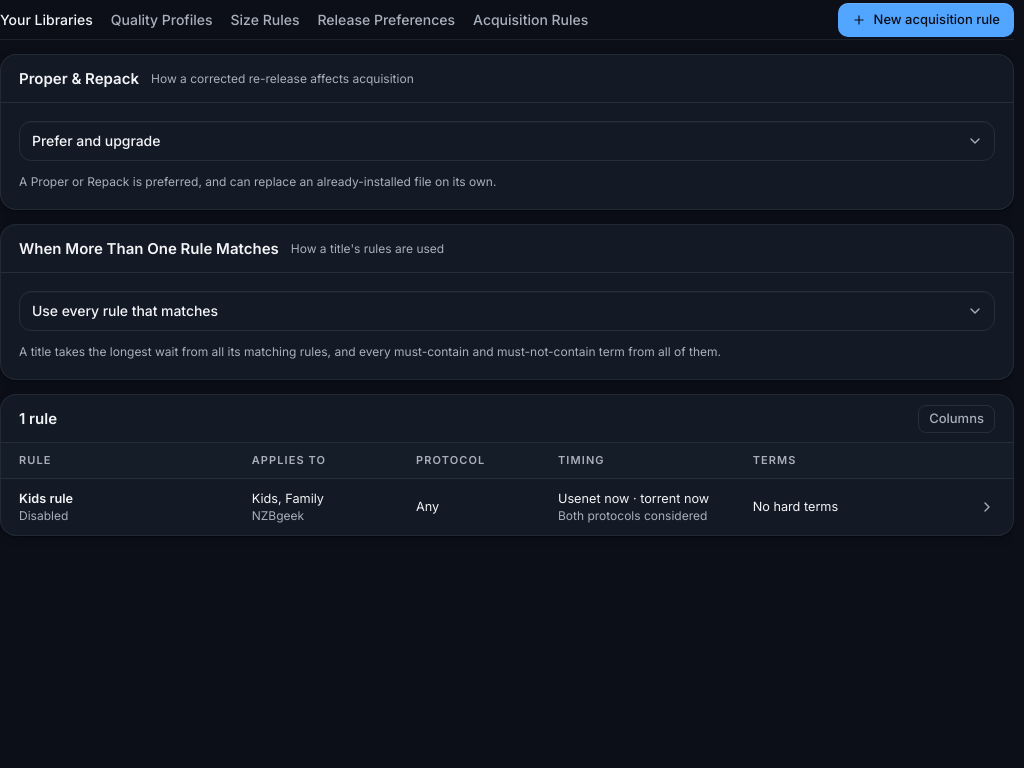
Test: release profile enable/disable and indexer scoping (#770) › asks before throwing away what was typed, and the page's leave-guard is on only while the drawer is edited
Click the button "New acquisition rule" at (926, 20), box [838,2,1014,36]
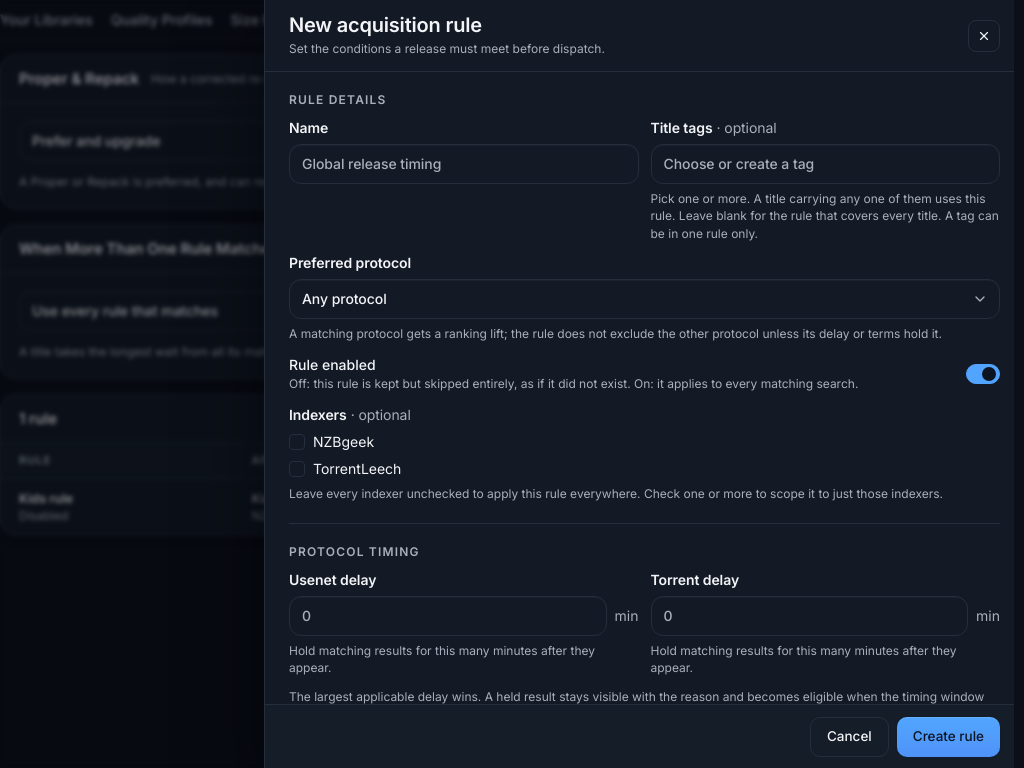
Type "Half done" into the field labelled "Name" at (464, 164), box [289,144,638,184]
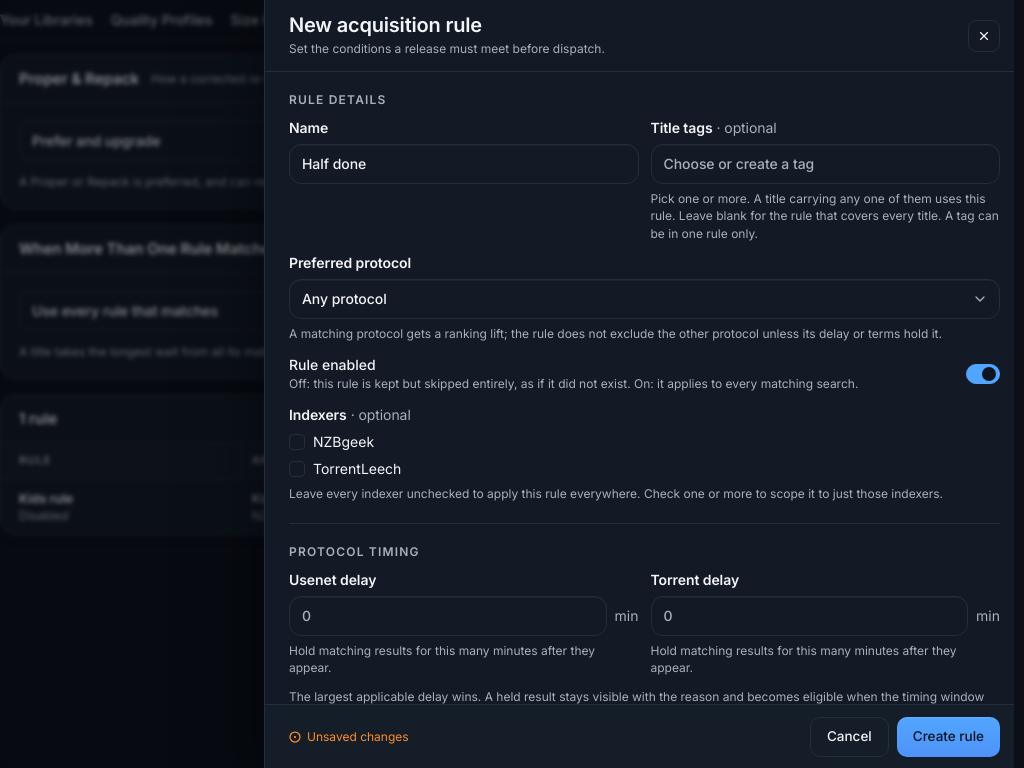
Click the button "Cancel" at (849, 736), box [810,716,889,756]
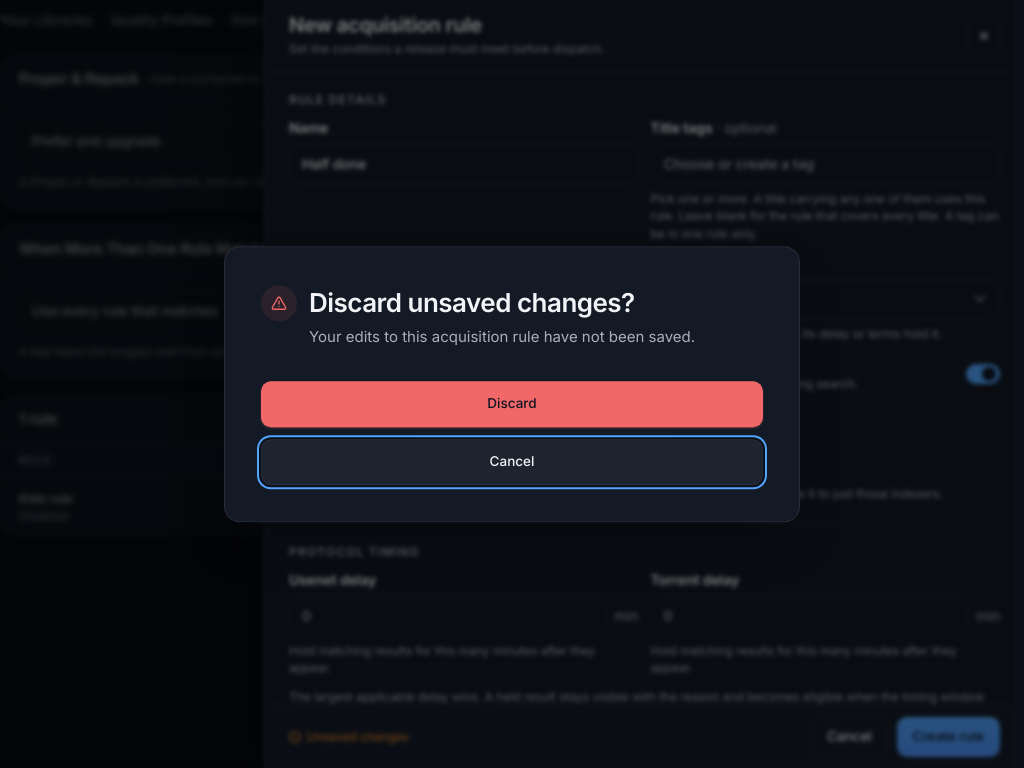
Expected: the heading "Discard unsaved changes?" is shown, [309,287,635,318]
Click the button "Cancel" at (512, 462), box [261,439,763,485]
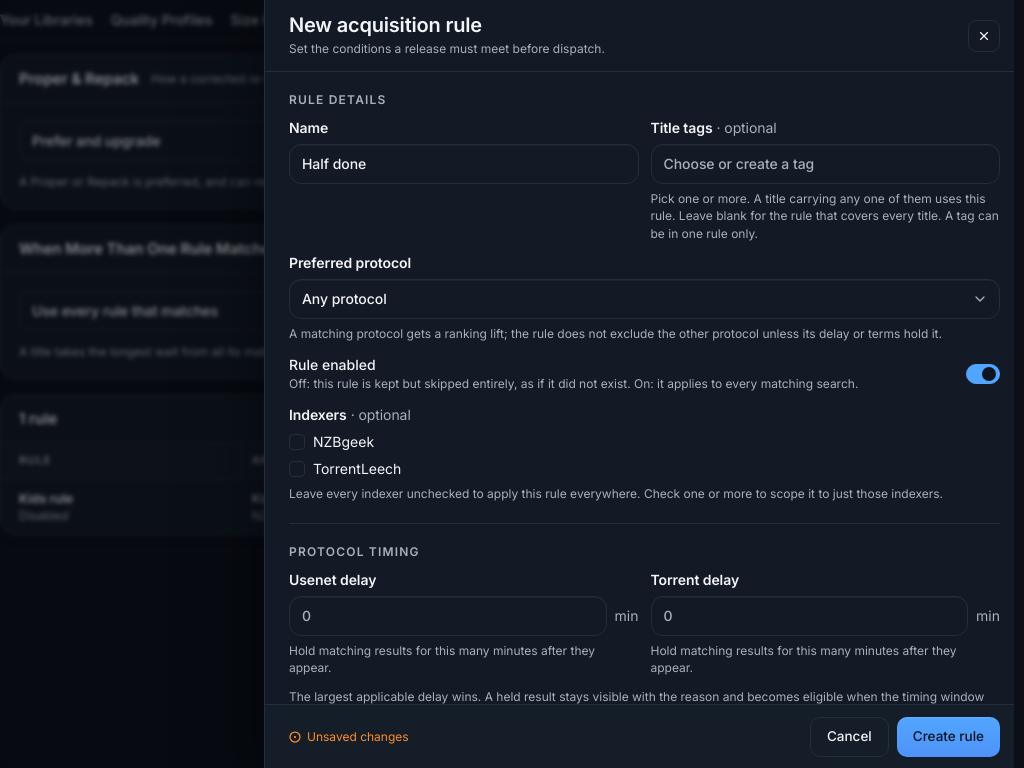
Expected: the number of dialogs is 1
Click the button "Cancel" at (849, 736), box [810,716,889,756]
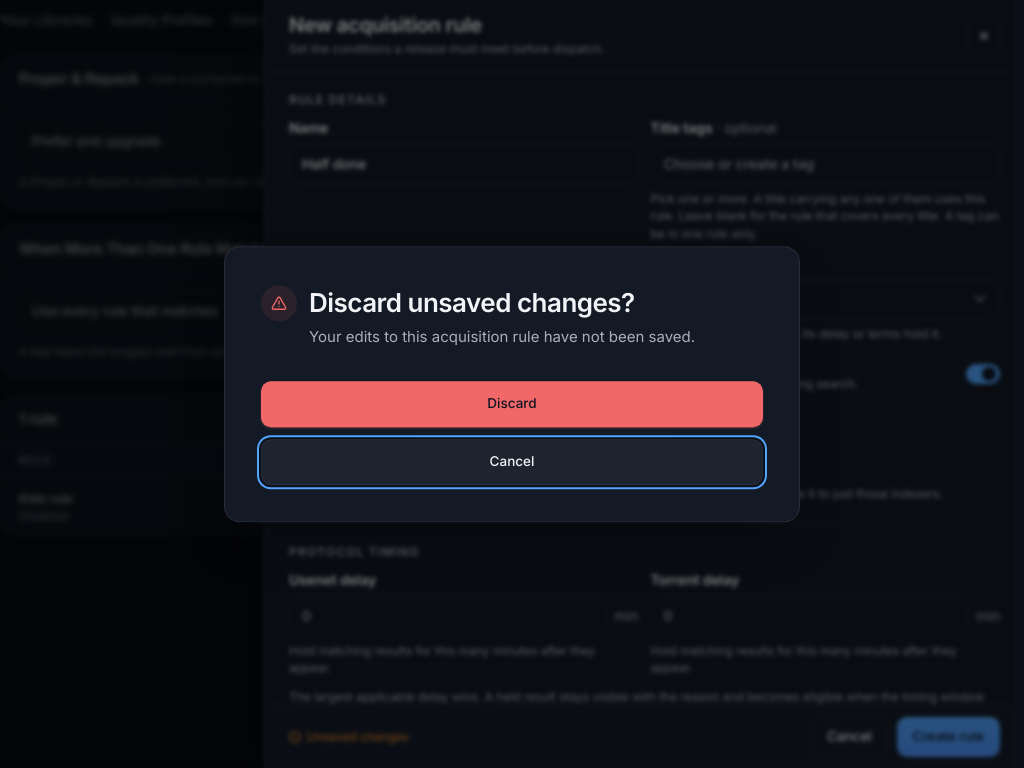
Click the button "Discard" at (512, 404), box [261,381,763,427]
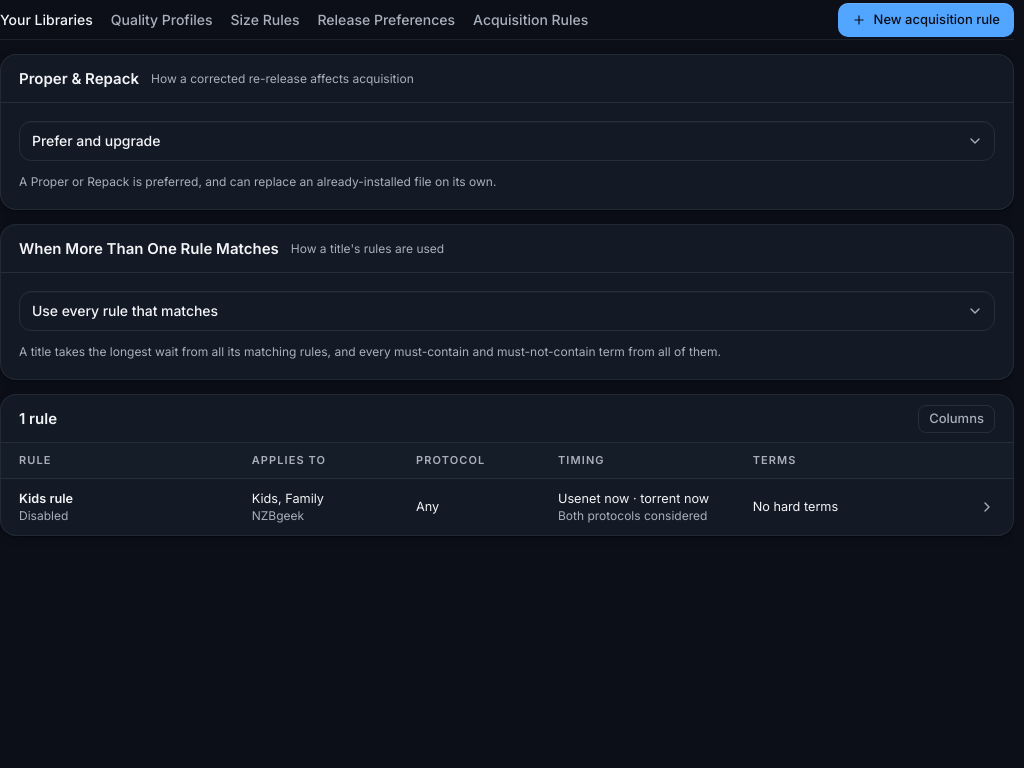
Expected: the dialog is gone
